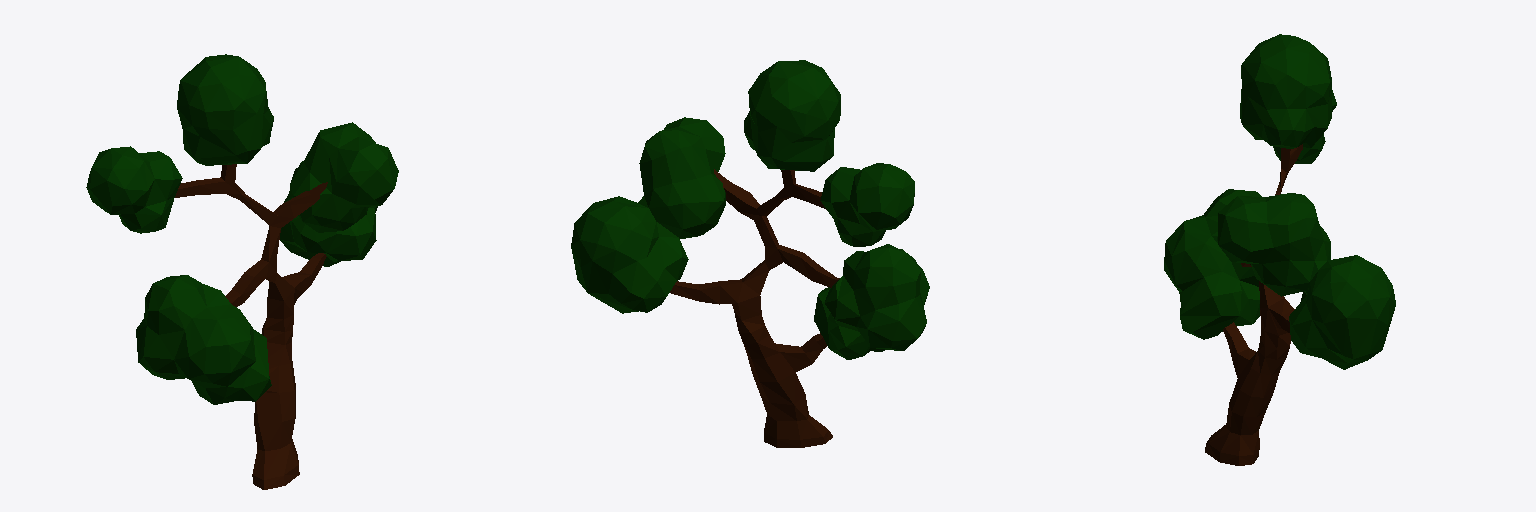
The model's file is tree3.obj.
3 views of the same model, side by side, from view 1: azimuth 30°, elevation 25°; view 2: azimuth 150°, elevation 25°; view 3: azimuth 270°, elevation 25° (orthographic).
Parts seen in each view (by area): view 1: LowPoly_Tree_05_lowpoly_tree_03_Cube; view 2: LowPoly_Tree_05_lowpoly_tree_03_Cube; view 3: LowPoly_Tree_05_lowpoly_tree_03_Cube.
Boxes of the visible parts, box(x1,y1,x2,y2) form: LowPoly_Tree_05_lowpoly_tree_03_Cube: box(86, 54, 398, 489); LowPoly_Tree_05_lowpoly_tree_03_Cube: box(571, 60, 929, 447); LowPoly_Tree_05_lowpoly_tree_03_Cube: box(1164, 34, 1395, 465).
Size of the model in its own units: 2.57 by 3.16 by 1.66.